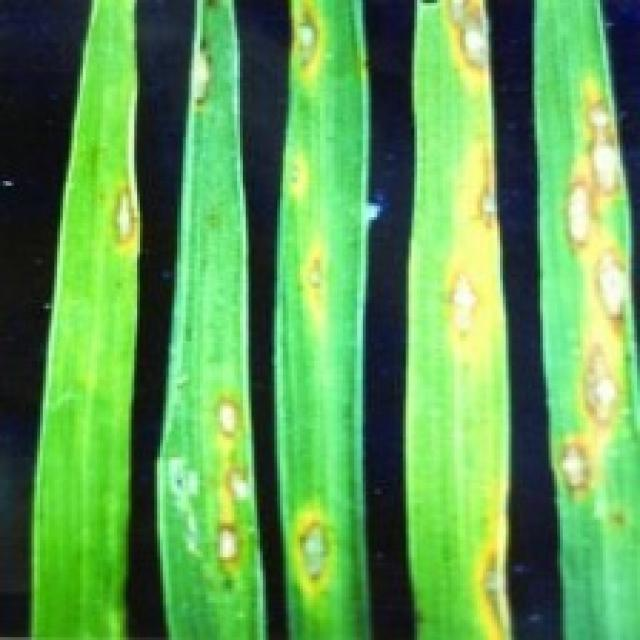Rice___Rice_Blast: (154, 0, 271, 637), (30, 0, 144, 637), (404, 0, 516, 637), (531, 0, 637, 637), (273, 0, 372, 637)
